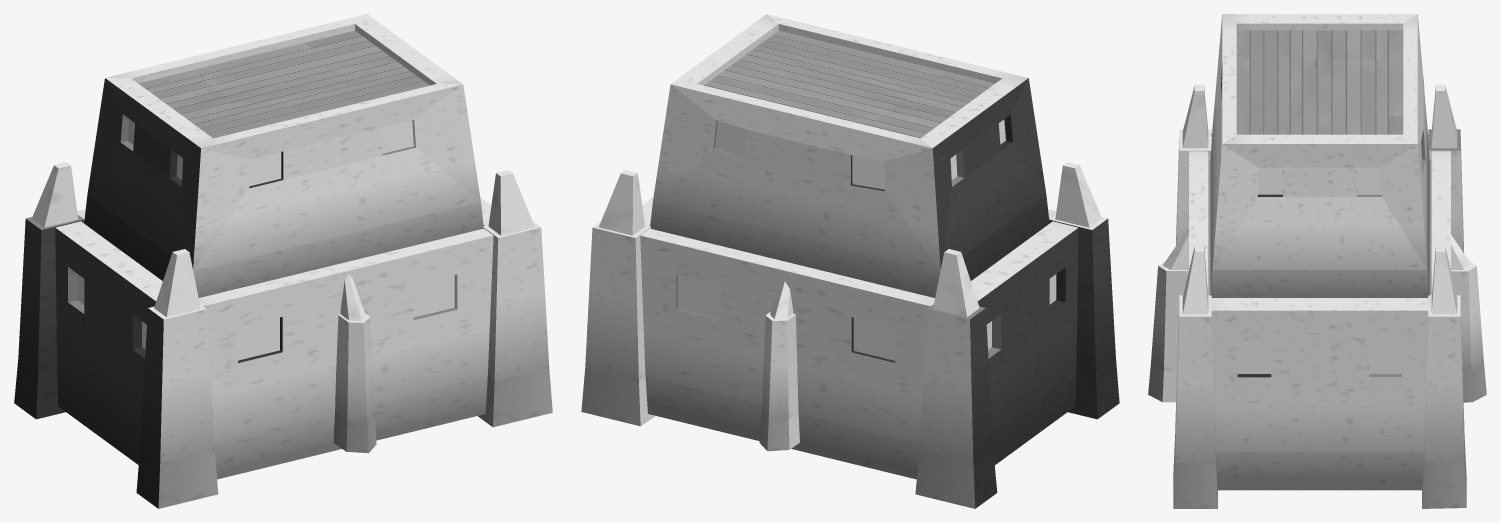
Rendered from DesertHouseC.fbx.
3 views of the same model, side by side, from view 1: azimuth 30°, elevation 25°; view 2: azimuth 150°, elevation 25°; view 3: azimuth 270°, elevation 25° (orthographic).
Visible parts, largest first — view 1: DesertHouseC; view 2: DesertHouseC; view 3: DesertHouseC.
Part boxes in pixels (<box>): DesertHouseC: <box>14,14,552,508</box>; DesertHouseC: <box>581,14,1119,508</box>; DesertHouseC: <box>1148,14,1486,508</box>.
Bounding box in the file's own units: 1713 × 1356 × 1253.
